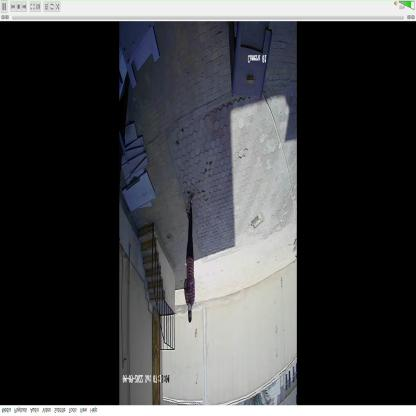handgun: (180, 278, 192, 297)
